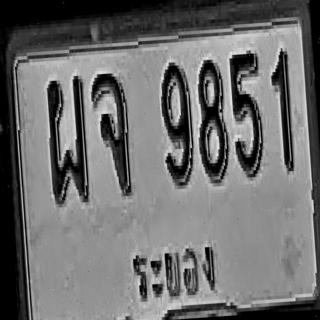A08: (89, 70, 133, 196)
A28: (44, 75, 91, 204)
N01: (269, 47, 295, 172)
N05: (228, 50, 266, 178)
N08: (193, 57, 230, 182)
N09: (158, 59, 194, 184)
P53: (123, 232, 225, 305)
